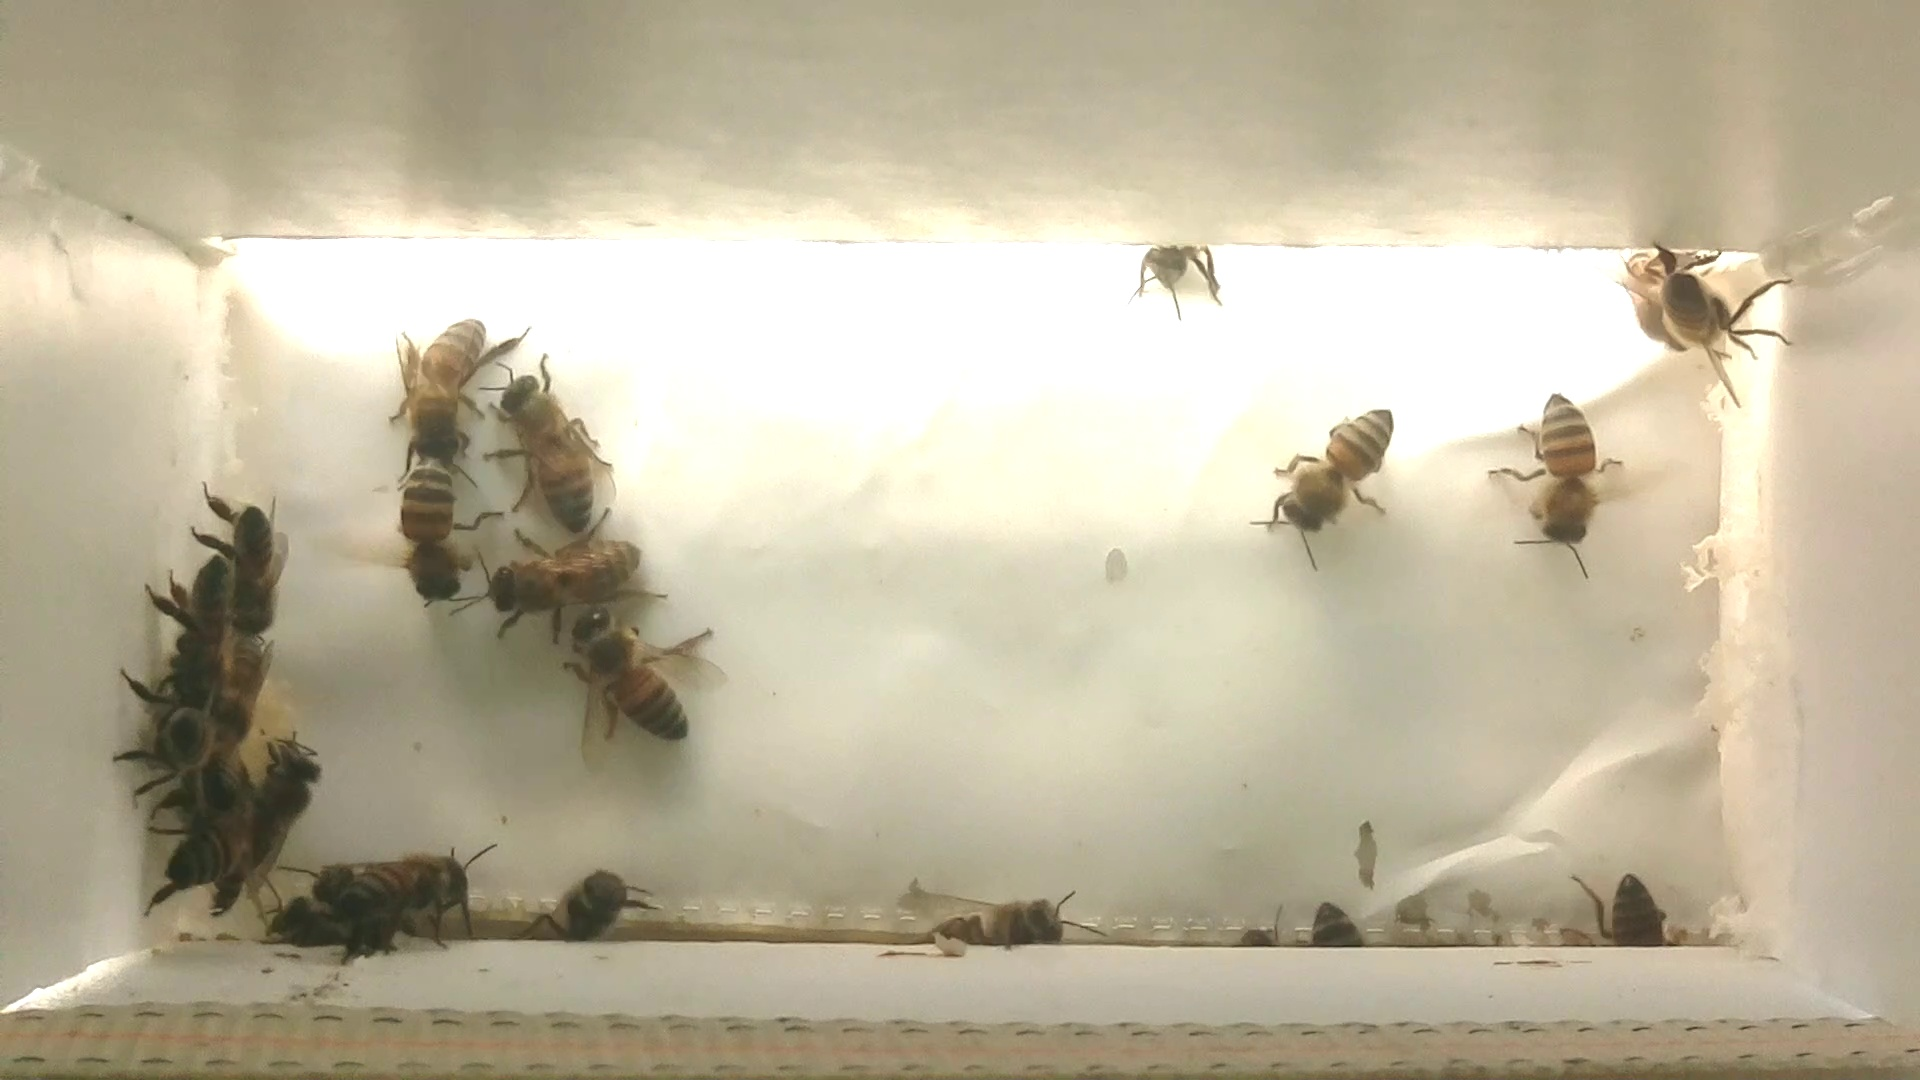bee: (541, 591, 736, 771), (1226, 384, 1415, 570), (477, 353, 638, 551), (1485, 381, 1638, 585), (378, 299, 516, 485), (465, 512, 661, 640), (1640, 243, 1796, 398), (311, 831, 488, 959), (378, 436, 505, 615), (890, 868, 1096, 957), (131, 534, 233, 698), (105, 666, 222, 803), (199, 488, 301, 640), (140, 789, 264, 909), (229, 724, 320, 865), (516, 858, 649, 953), (1573, 860, 1693, 963), (206, 618, 290, 764), (1118, 235, 1236, 319), (253, 884, 357, 961), (1276, 881, 1375, 955)
